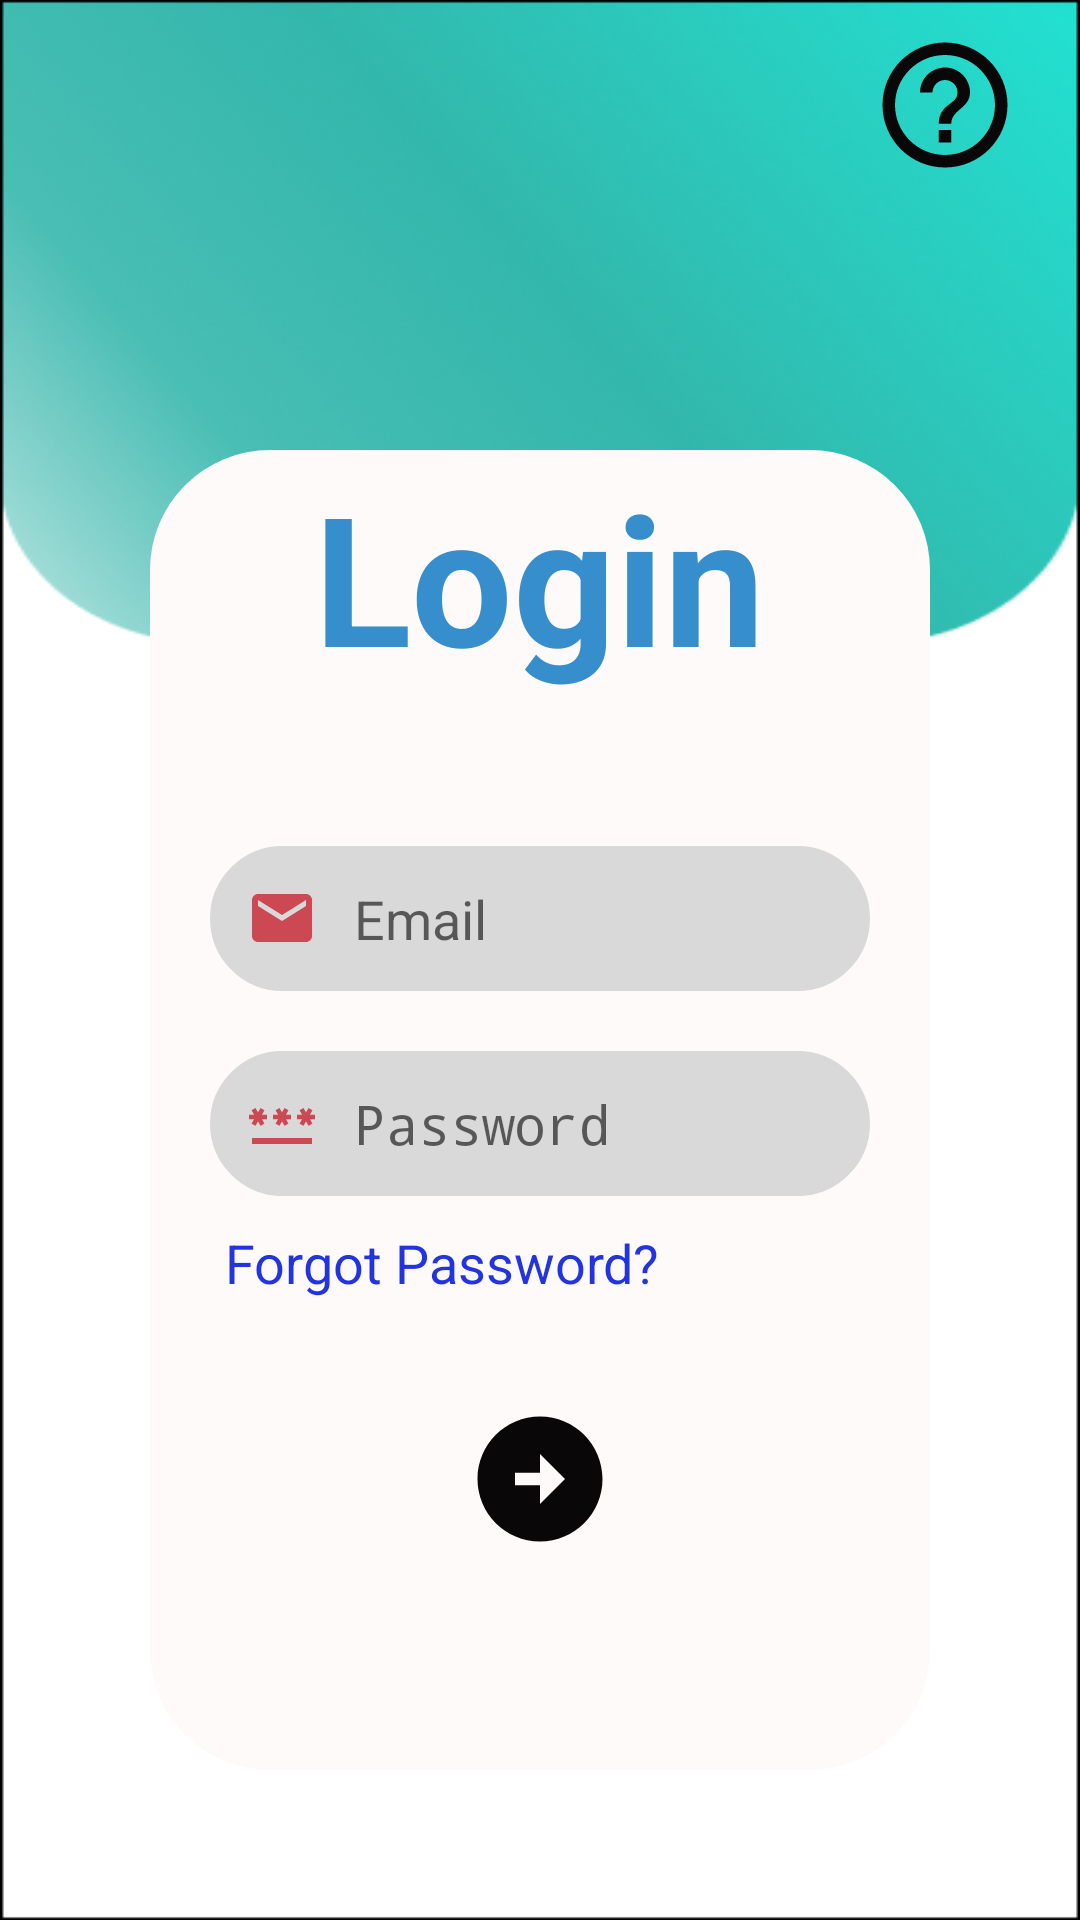

Screen size 1080w x 1920h. Icon name, then its box in pixels as (x1, y1, x2, y2):
help: (882, 42, 1008, 168)
submit: (477, 1416, 603, 1542)
